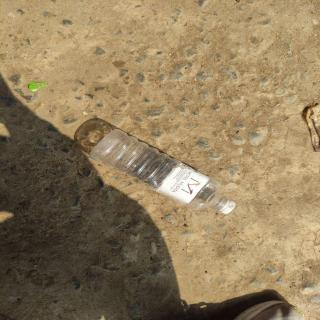Plastic-bottle: (85, 126, 240, 222)
